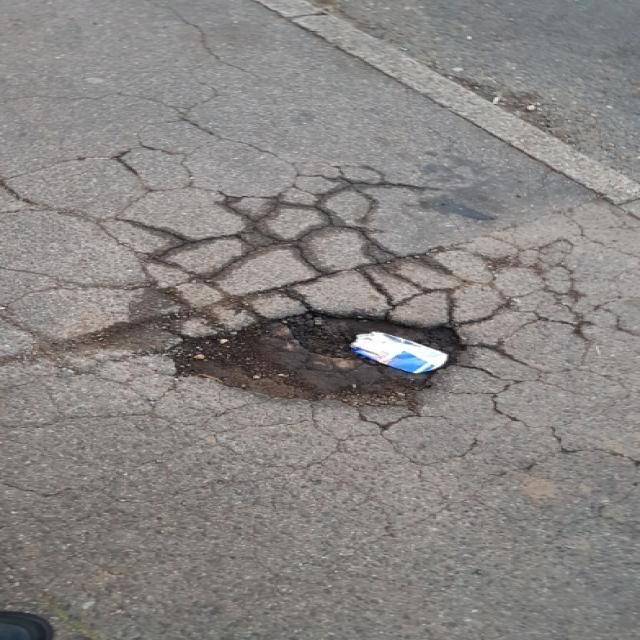Pothole: (163, 307, 478, 414)
